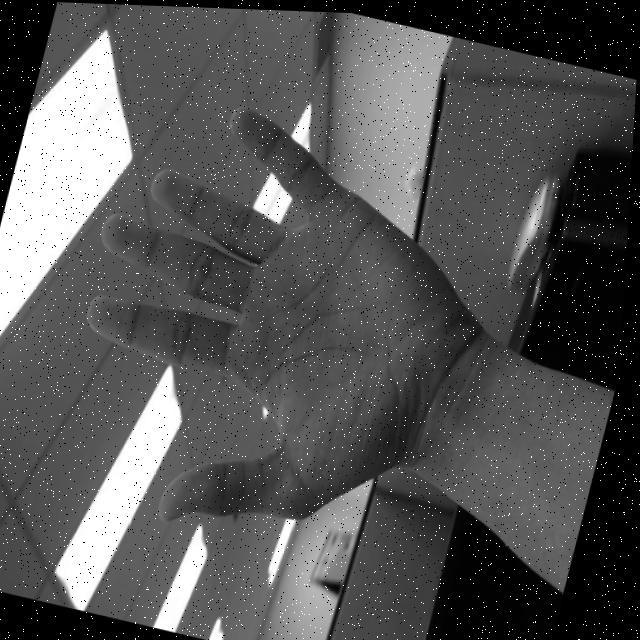no-gloves: (37, 76, 518, 578)
